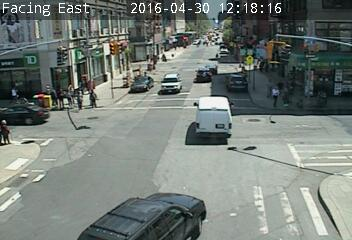neg: (128, 110, 144, 132), (302, 49, 316, 67), (40, 128, 53, 146), (153, 167, 166, 185), (220, 77, 233, 95), (313, 89, 326, 106), (187, 101, 198, 116), (75, 122, 86, 137), (165, 22, 176, 36), (231, 32, 240, 44), (33, 31, 42, 43), (121, 71, 129, 83), (205, 170, 213, 181), (93, 24, 100, 34), (213, 34, 219, 41), (245, 54, 251, 61), (198, 39, 201, 44)
pos: (55, 88, 69, 107), (268, 85, 282, 103), (85, 87, 98, 105), (73, 91, 86, 109), (46, 87, 59, 104), (7, 86, 19, 102), (276, 80, 286, 94), (145, 54, 151, 61)
